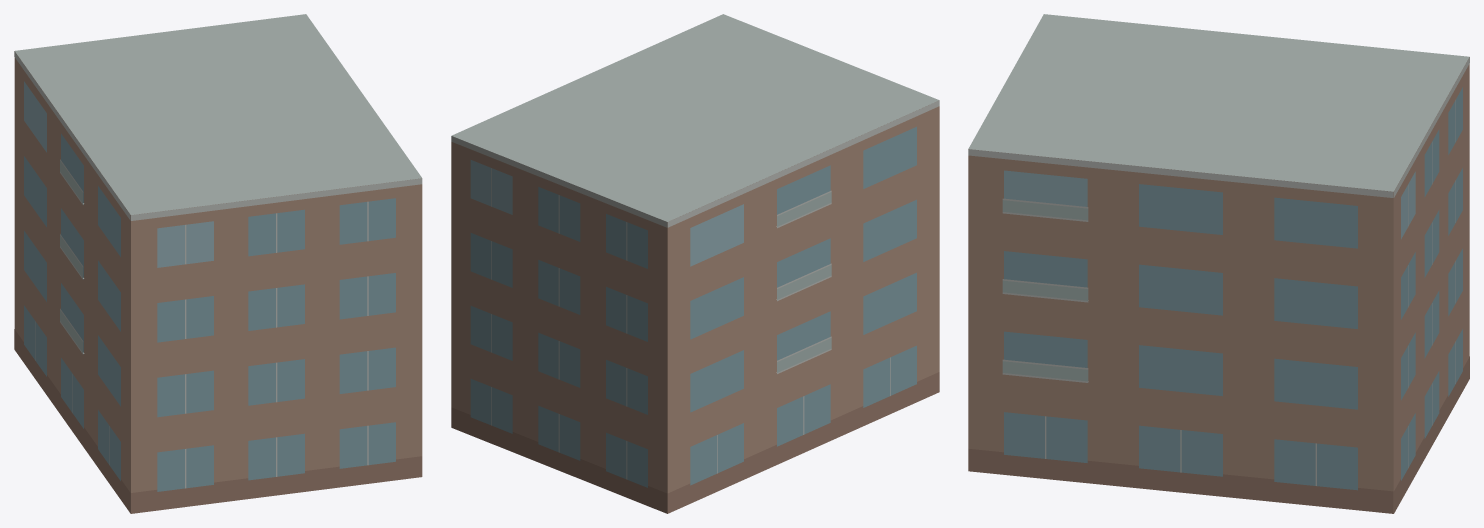
File: residential-b0ffd066-e2be-44a5-9ee0-4f6eb271b122.glb
3 views of the same model, side by side, from view 1: azimuth 30°, elevation 25°; view 2: azimuth 150°, elevation 25°; view 3: azimuth 270°, elevation 25° (orthographic). The views are drawn at different scales.
Parts seen in each view (by area): view 1: residential-b0ffd066-e2be-44a5-9ee0-4f6eb271b122.tmp; view 2: residential-b0ffd066-e2be-44a5-9ee0-4f6eb271b122.tmp; view 3: residential-b0ffd066-e2be-44a5-9ee0-4f6eb271b122.tmp.
Boxes of the visible parts, x1,y1,x2,y2 form: residential-b0ffd066-e2be-44a5-9ee0-4f6eb271b122.tmp: (14, 14, 422, 513); residential-b0ffd066-e2be-44a5-9ee0-4f6eb271b122.tmp: (451, 14, 939, 513); residential-b0ffd066-e2be-44a5-9ee0-4f6eb271b122.tmp: (968, 14, 1469, 513).
Bounding box in the file's own units: 14.44 × 12.2 × 17.22.
